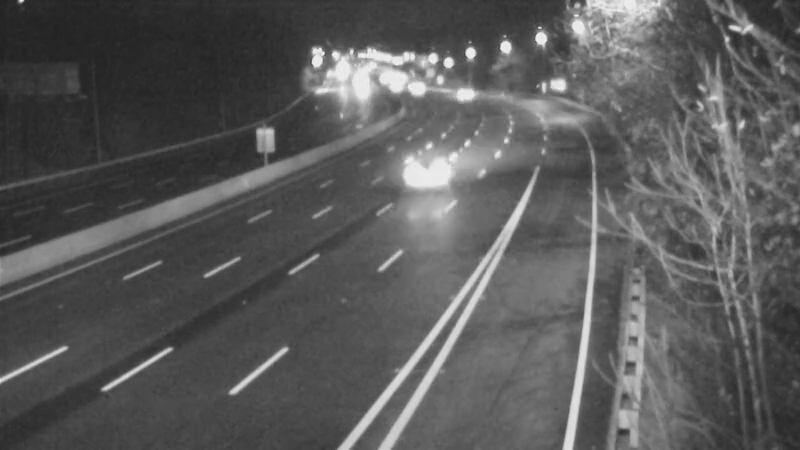vehicle: (396, 132, 476, 212), (392, 62, 442, 112), (434, 67, 484, 117)
